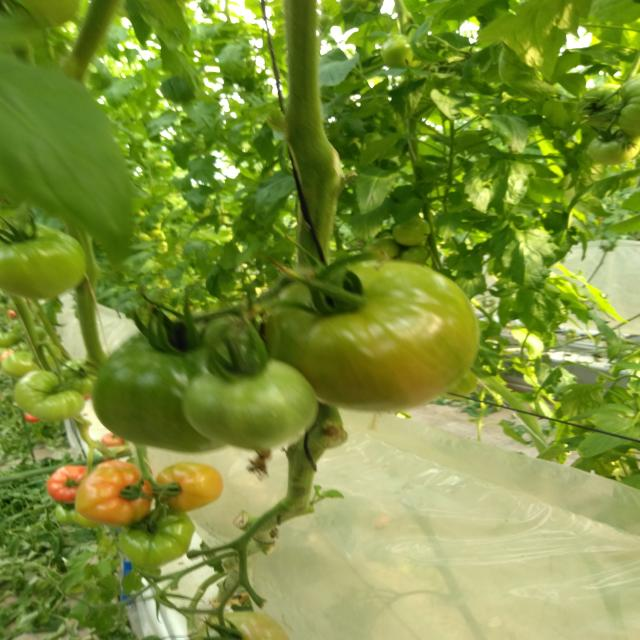yesil: (0, 219, 314, 463), (256, 236, 488, 462)
